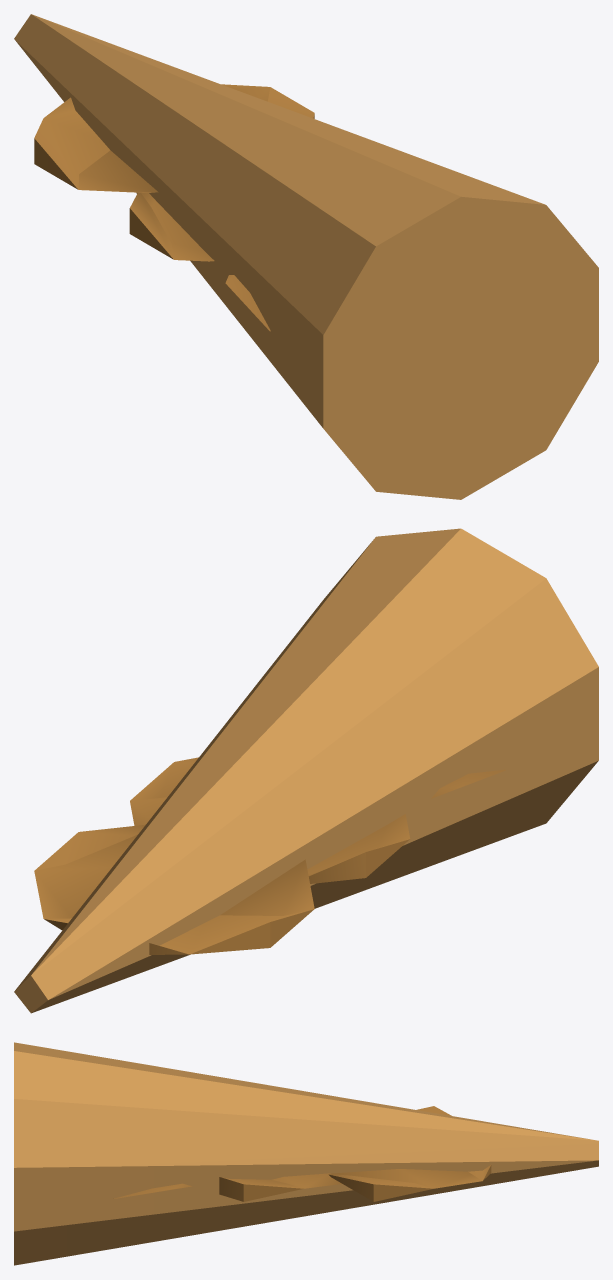
The model's file is snowman_part_carrot_low.glb.
3 views of the same model, one above another, from view 1: azimuth 30°, elevation 25°; view 2: azimuth 150°, elevation 25°; view 3: azimuth 270°, elevation 25° (orthographic). The views are drawn at different scales.
Size of the model in its own units: 0.0666 by 0.07 by 0.18.
